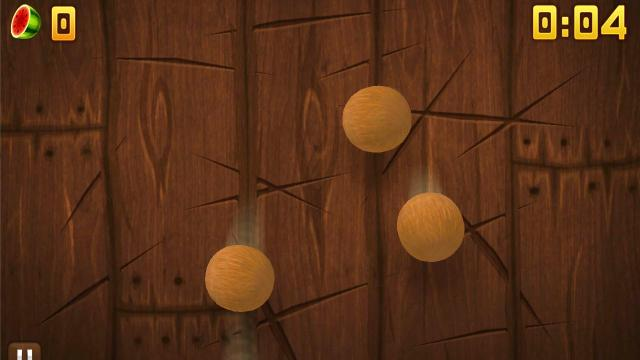fruit: (396, 192, 464, 262), (342, 84, 412, 152), (204, 244, 276, 310)
ignore: (9, 3, 43, 41)
